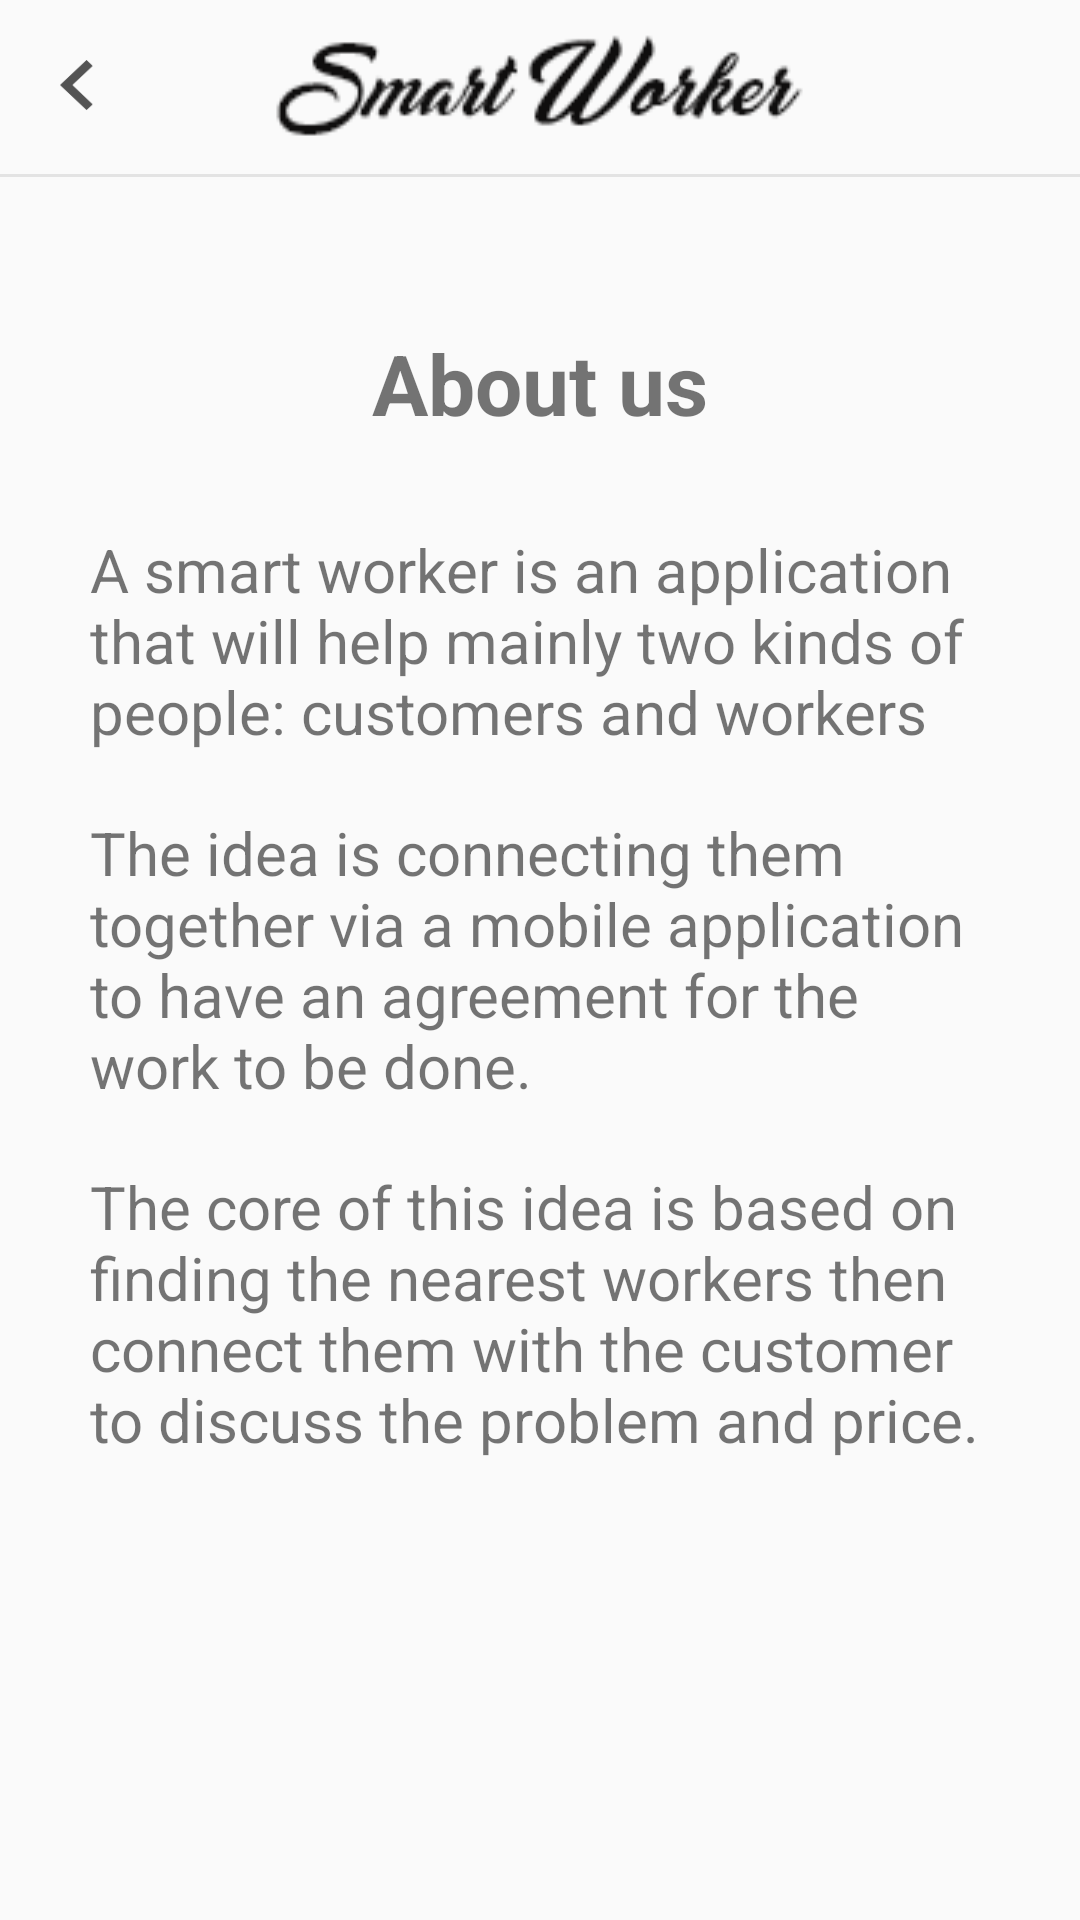

Point at icon controls on the screen. Image size 1080 × 1920, points as (x=x, y=y).
back: (x=76, y=85)
